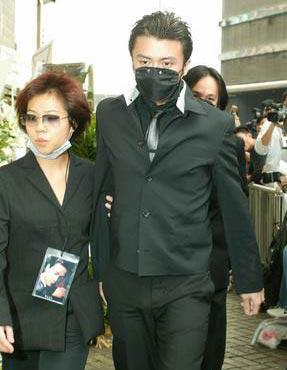OK: (134, 49, 185, 100)
WRONG: (24, 107, 71, 159)
